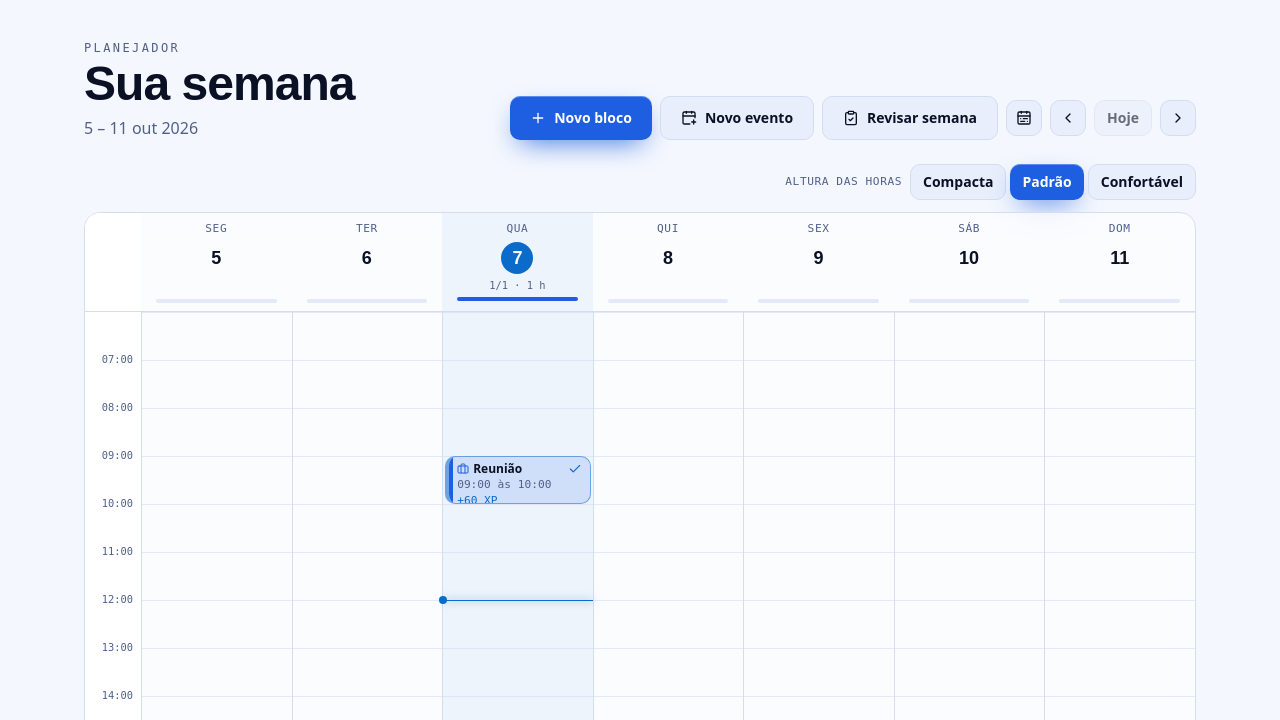
Test case: WeekPage: arrastar e soltar na grade (RF18) › ocorrência concluída não se arrasta: continua sendo só um clique
Press the mouse on the button "Reunião 09:00 às 10:00 +60 XP" at (518, 480), box [445, 456, 591, 504]
Click the button "Reunião 09:00 às 10:00 +60 XP" at (518, 480), box [445, 456, 591, 504]
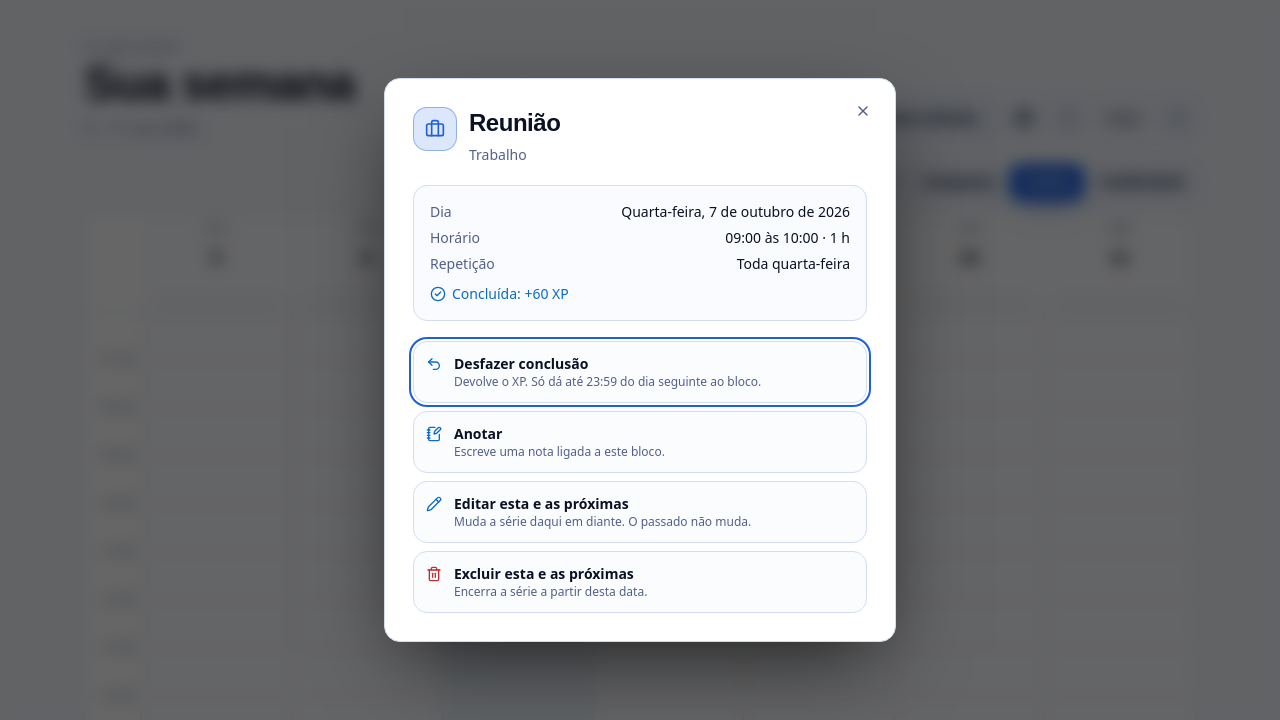
Check: the dialog is shown, box [384, 78, 896, 642]
